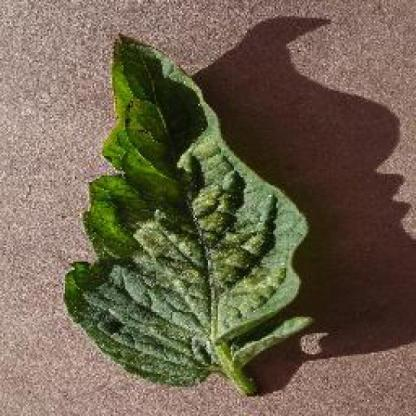Tomato_Spider_Mites: (67, 34, 313, 386)
